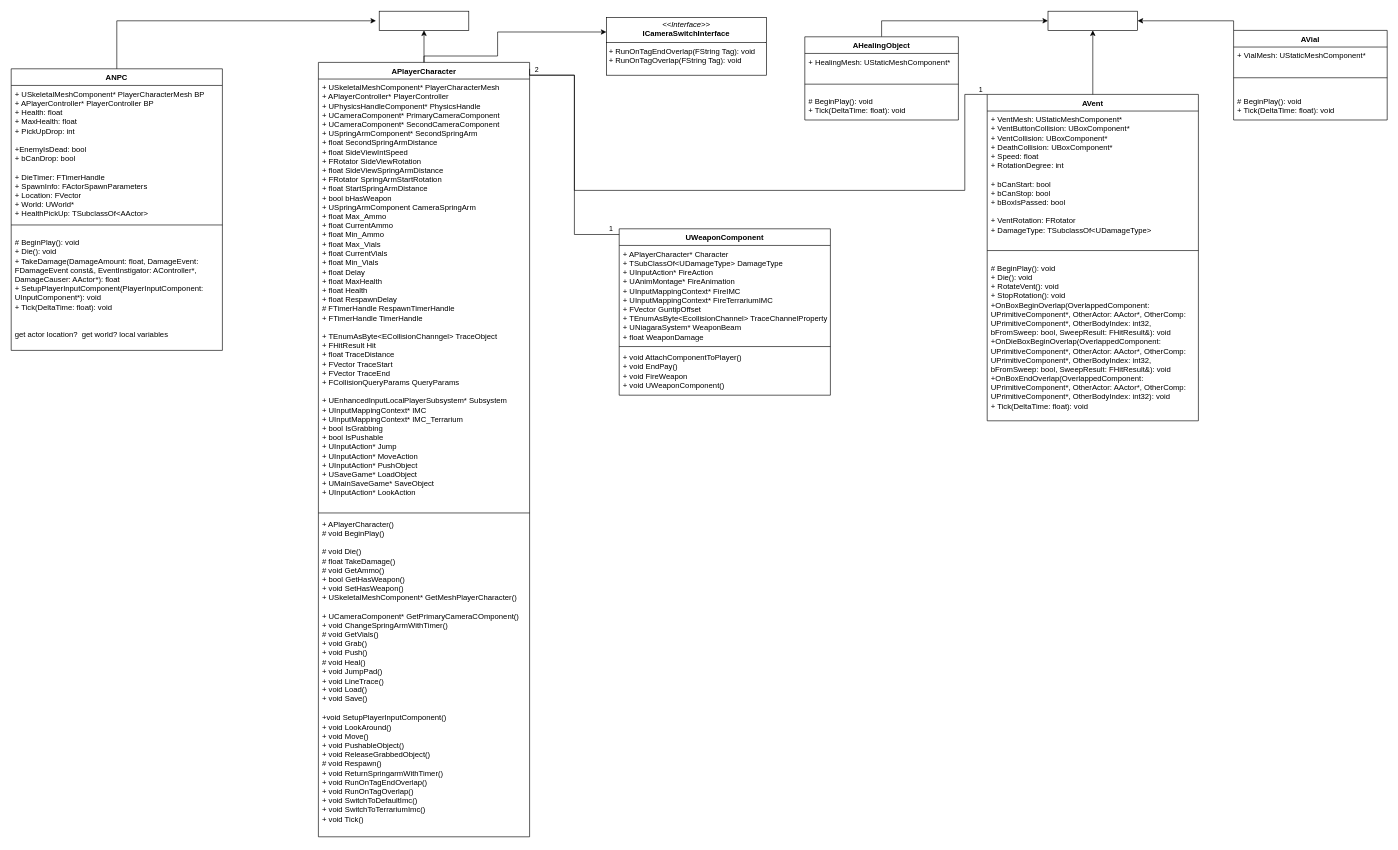
This 1398x850 diagram has some shape labels left out. The centre of each missing label's shape, as x and y in pixels:
"AActor" belongs at (1092,20).
"ACharacter" belongs at (424,20).
